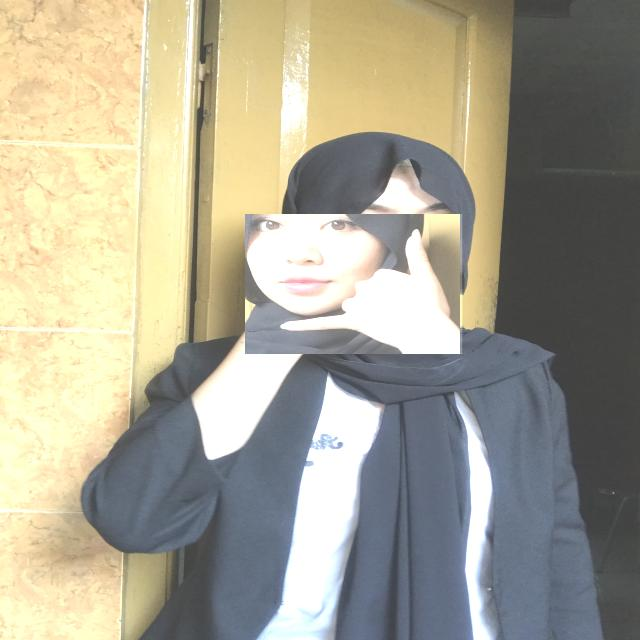telpon: (246, 214, 464, 354)
